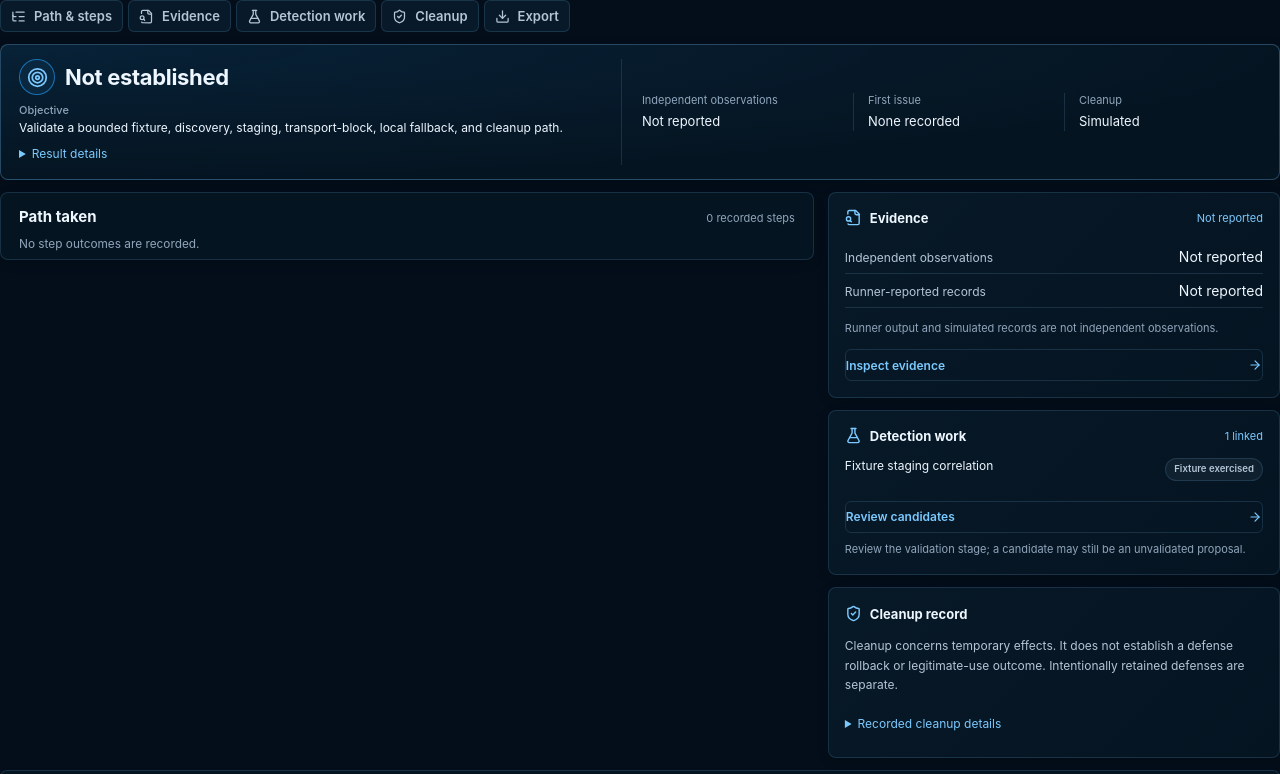
Test: keeps unknown objective and missing observation metadata distinct from prevention and zero
Expected: the heading "Not established" is shown, [65,63,229,91]
Expected: the text "Not reported" next to "None recorded" is shown, [642,113,720,129]
Click the heading "Result details".
click(63, 154)  # box [19,143,107,165]
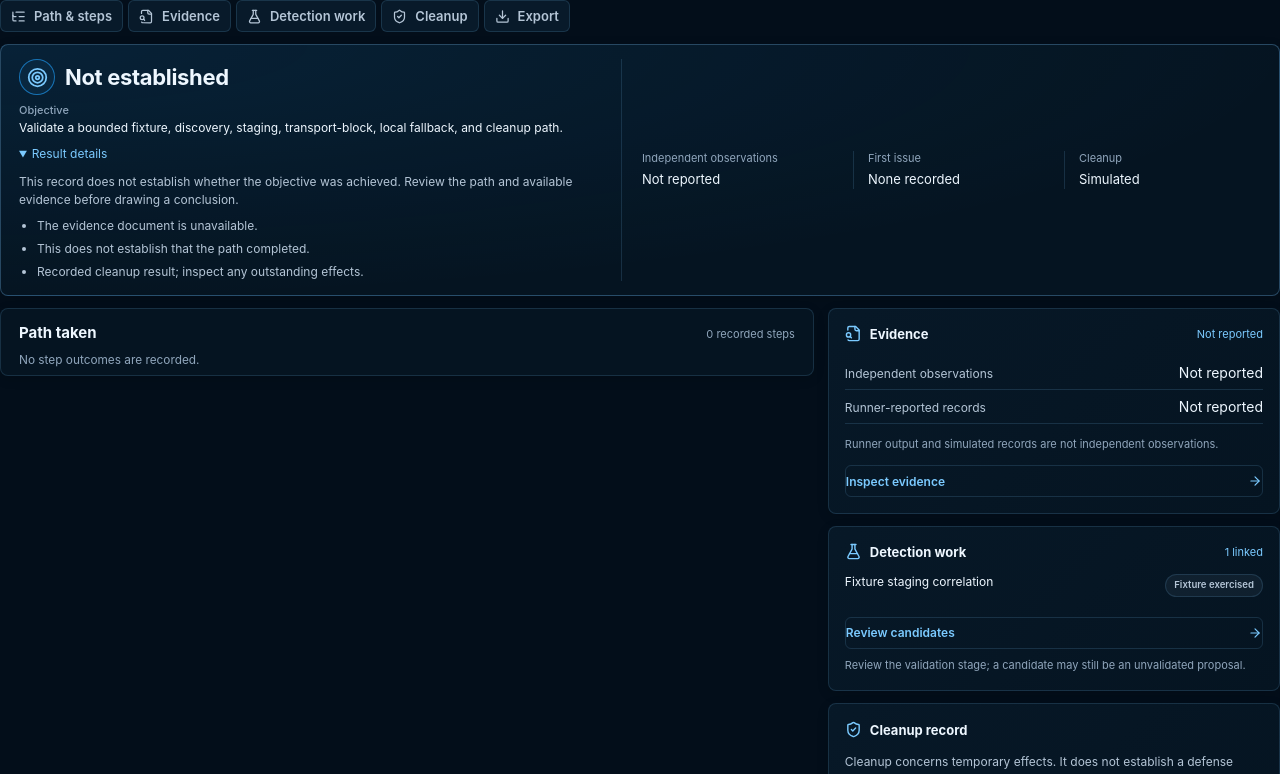
Expected: the list item "This does not establish that the path completed." is shown, [37,241,310,256]
